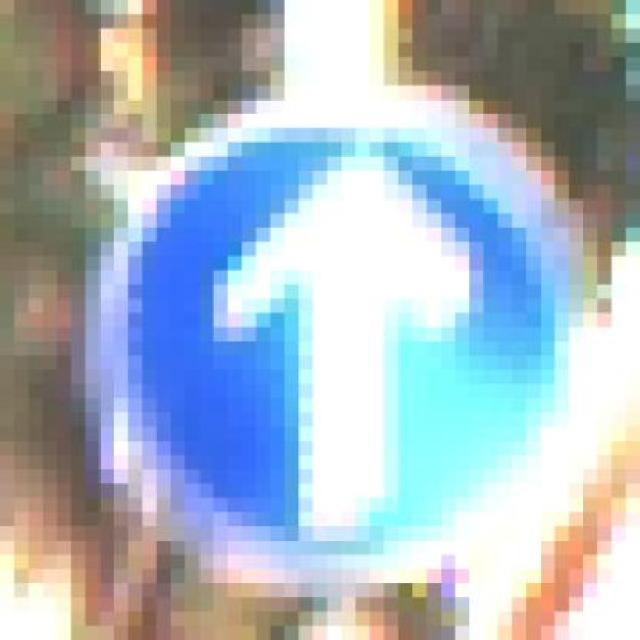Straight Ahead Only: (71, 71, 583, 597)
